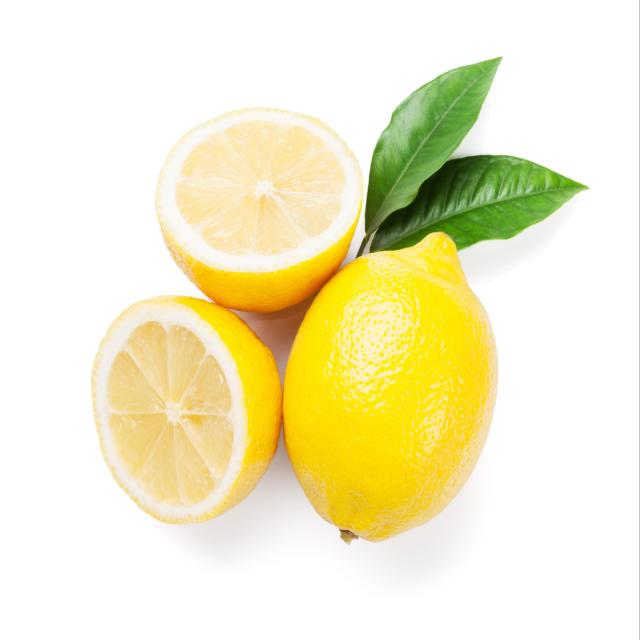lemon: (280, 228, 500, 548), (86, 292, 284, 530), (150, 100, 368, 316)
